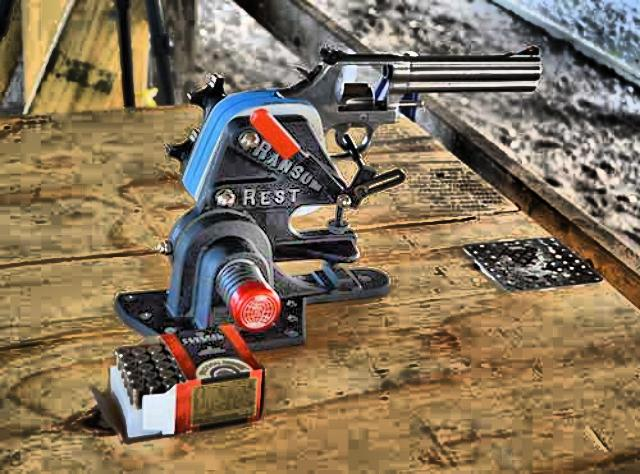pistol: (270, 40, 542, 158)
